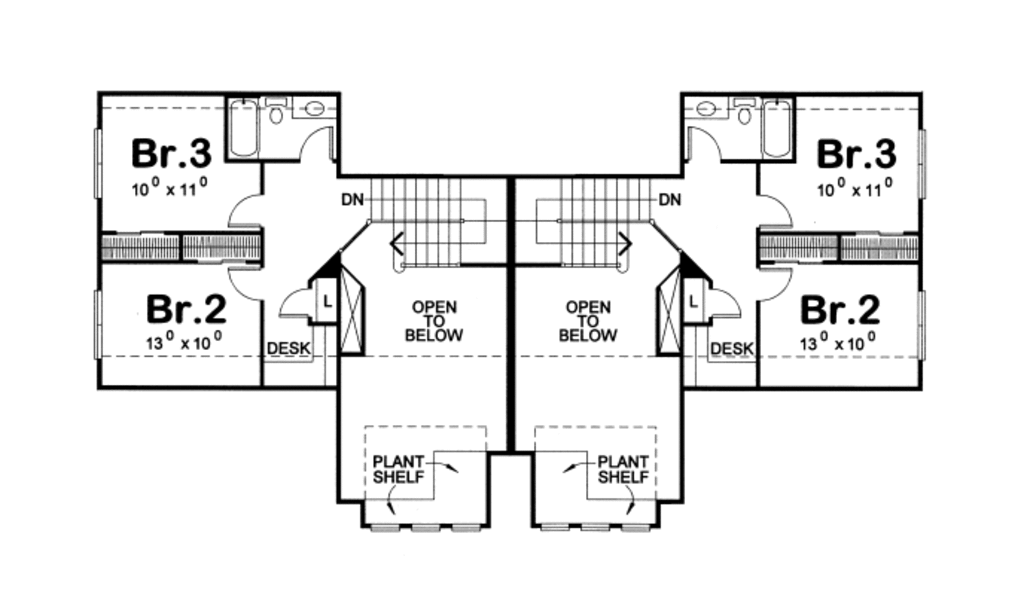door: (219, 262, 274, 308), (753, 193, 806, 236), (684, 119, 730, 168), (699, 278, 749, 322), (293, 125, 339, 170), (223, 187, 272, 229), (272, 283, 323, 323), (750, 262, 798, 299)
large_sink: (727, 96, 766, 135), (259, 94, 287, 127)
small_sink: (292, 92, 336, 120), (679, 95, 728, 119)
stairs: (339, 165, 516, 276), (510, 170, 669, 284)
tub: (226, 94, 260, 157), (761, 98, 794, 161)
window: (536, 517, 654, 539), (88, 126, 112, 201), (372, 520, 488, 535), (910, 126, 929, 200), (915, 289, 927, 363), (90, 284, 100, 359)
